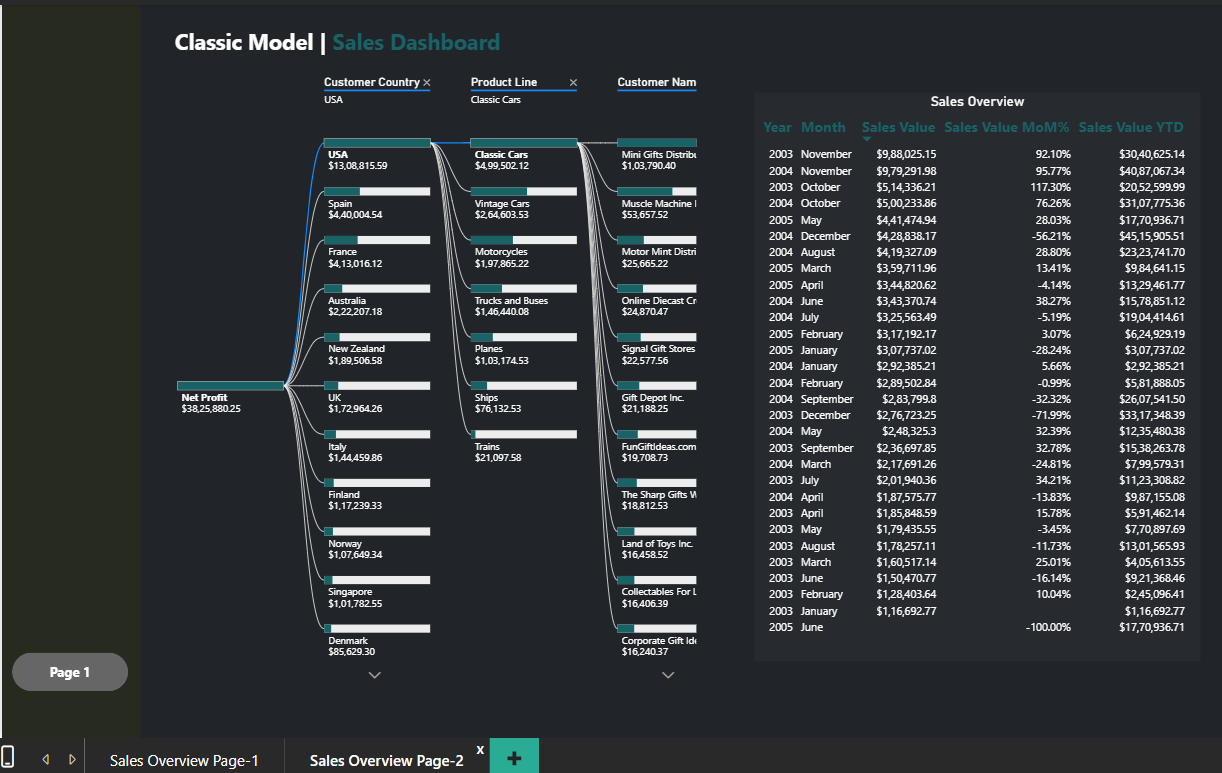

What the dashboard file says about the page in this screenshot:
{"tool":"powerbi","page":{"name":"Sales Overview Page-2","canvas":[1500,900],"ordinal":1},"visuals":[{"type":"shape","box":[0,0,170,900.3],"z":0},{"type":"decompositionTreeVisual","fields":{"Analyze":["classicmodels sales_data_for_power_bi.Net Profit"],"ExplainBy":["classicmodels sales_data_for_power_bi.customer_country","classicmodels sales_data_for_power_bi.productLine","classicmodels sales_data_for_power_bi.customerName"]},"box":[185.6,69,671.8,774.5],"z":1000},{"type":"textbox","box":[207.1,21.5,503.1,47.5],"z":2000},{"type":"tableEx","title":"Sales Overview","fields":{"Values":["classicmodels sales_data_for_power_bi.orderdate.Variation.Date Hierarchy.Year","classicmodels sales_data_for_power_bi.orderdate.Variation.Date Hierarchy.Month","Sum(classicmodels sales_data_for_power_bi.sales_value)","classicmodels sales_data_for_power_bi.sales_value MoM%","classicmodels sales_data_for_power_bi.sales_value YTD"]},"box":[923.3,107.4,547.5,697.9],"z":3000},{"type":"actionButton","box":[12.3,794.5,142.6,47.5],"z":3001}]}

Visuals, with their boxes on the page's 1500x900 design canvas (x1, y1, x2, y2). These are canvas units, not pixel positions in the 1222x773 screenshot, which may show the page scaled, cropped or inside an application window:
shape: (0,0,170,900)
decompositionTreeVisual - classicmodels sales_data_for_power_bi.Net Profit x classicmodels sales_data_for_power_bi.customer_country: (186,69,857,844)
textbox: (207,22,710,69)
"Sales Overview" tableEx: (923,107,1471,805)
actionButton: (12,794,155,842)
